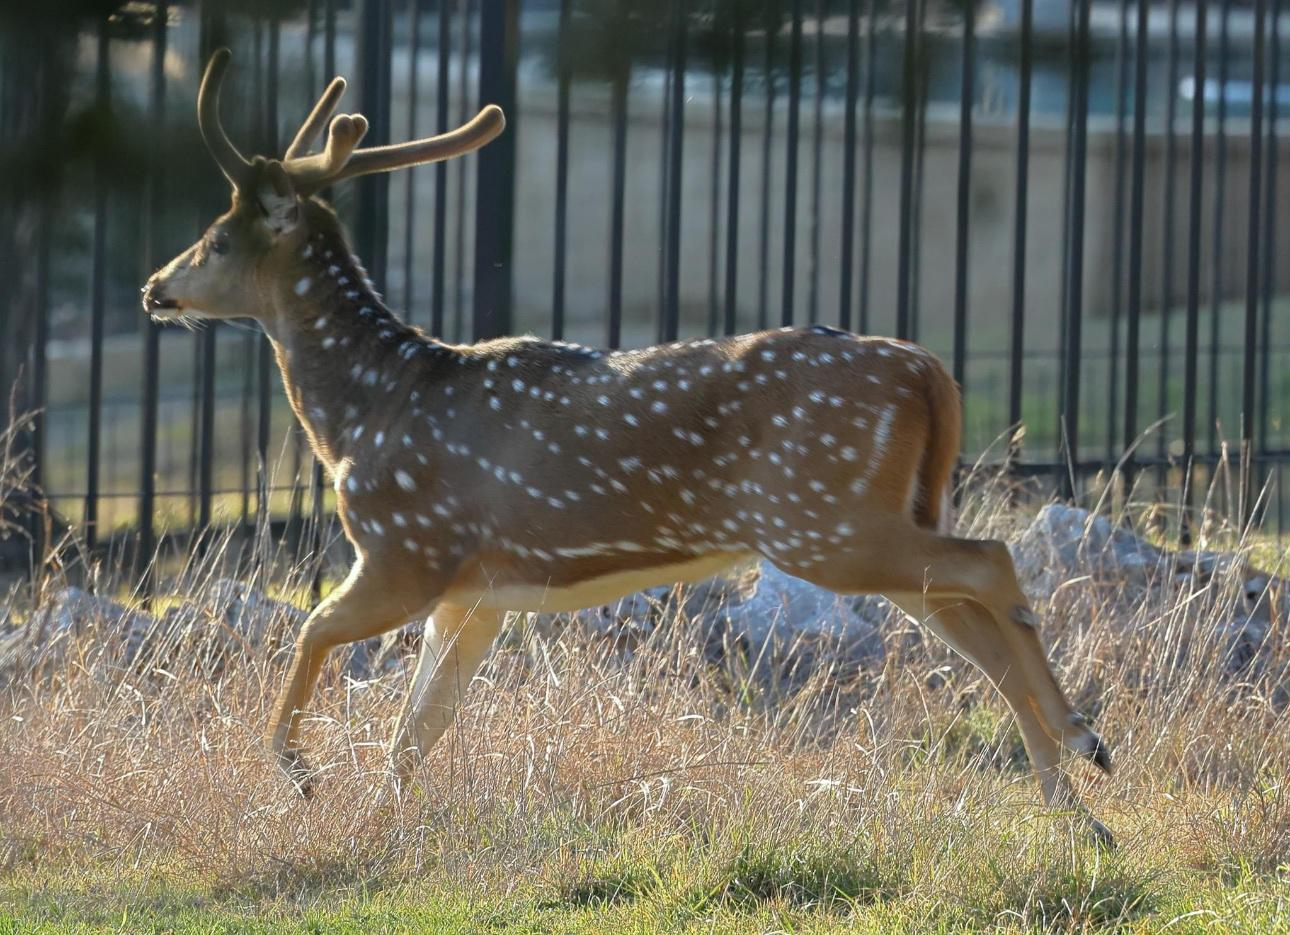Deer: (142, 49, 1109, 805)
